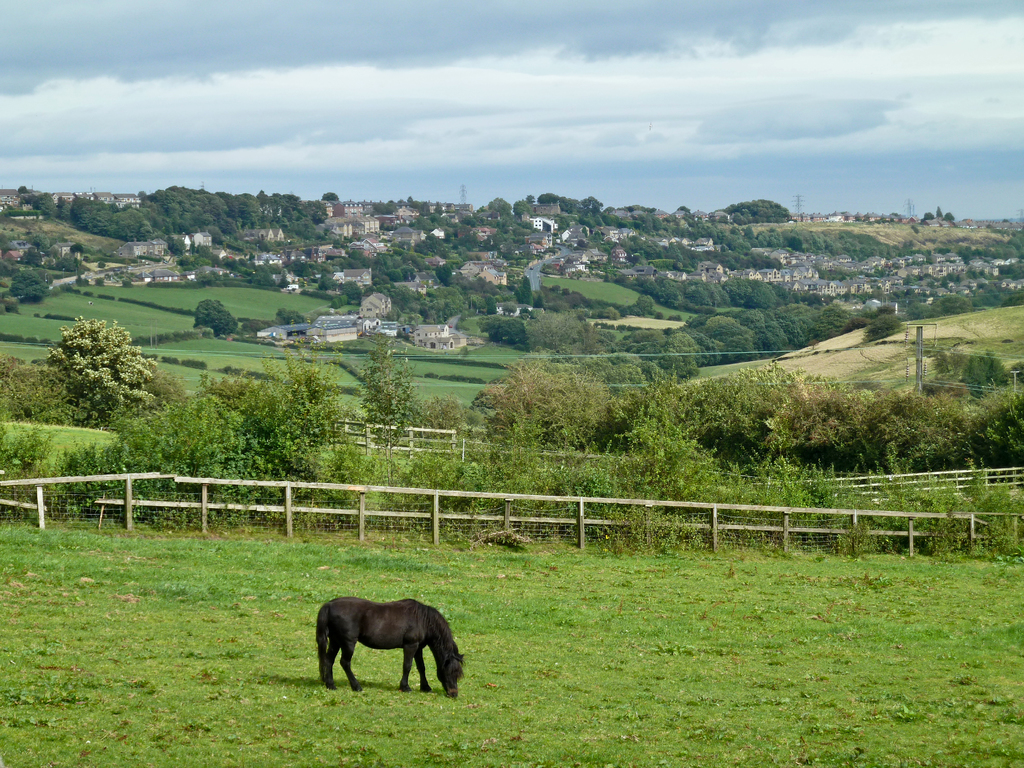horse: (315, 597, 466, 701)
